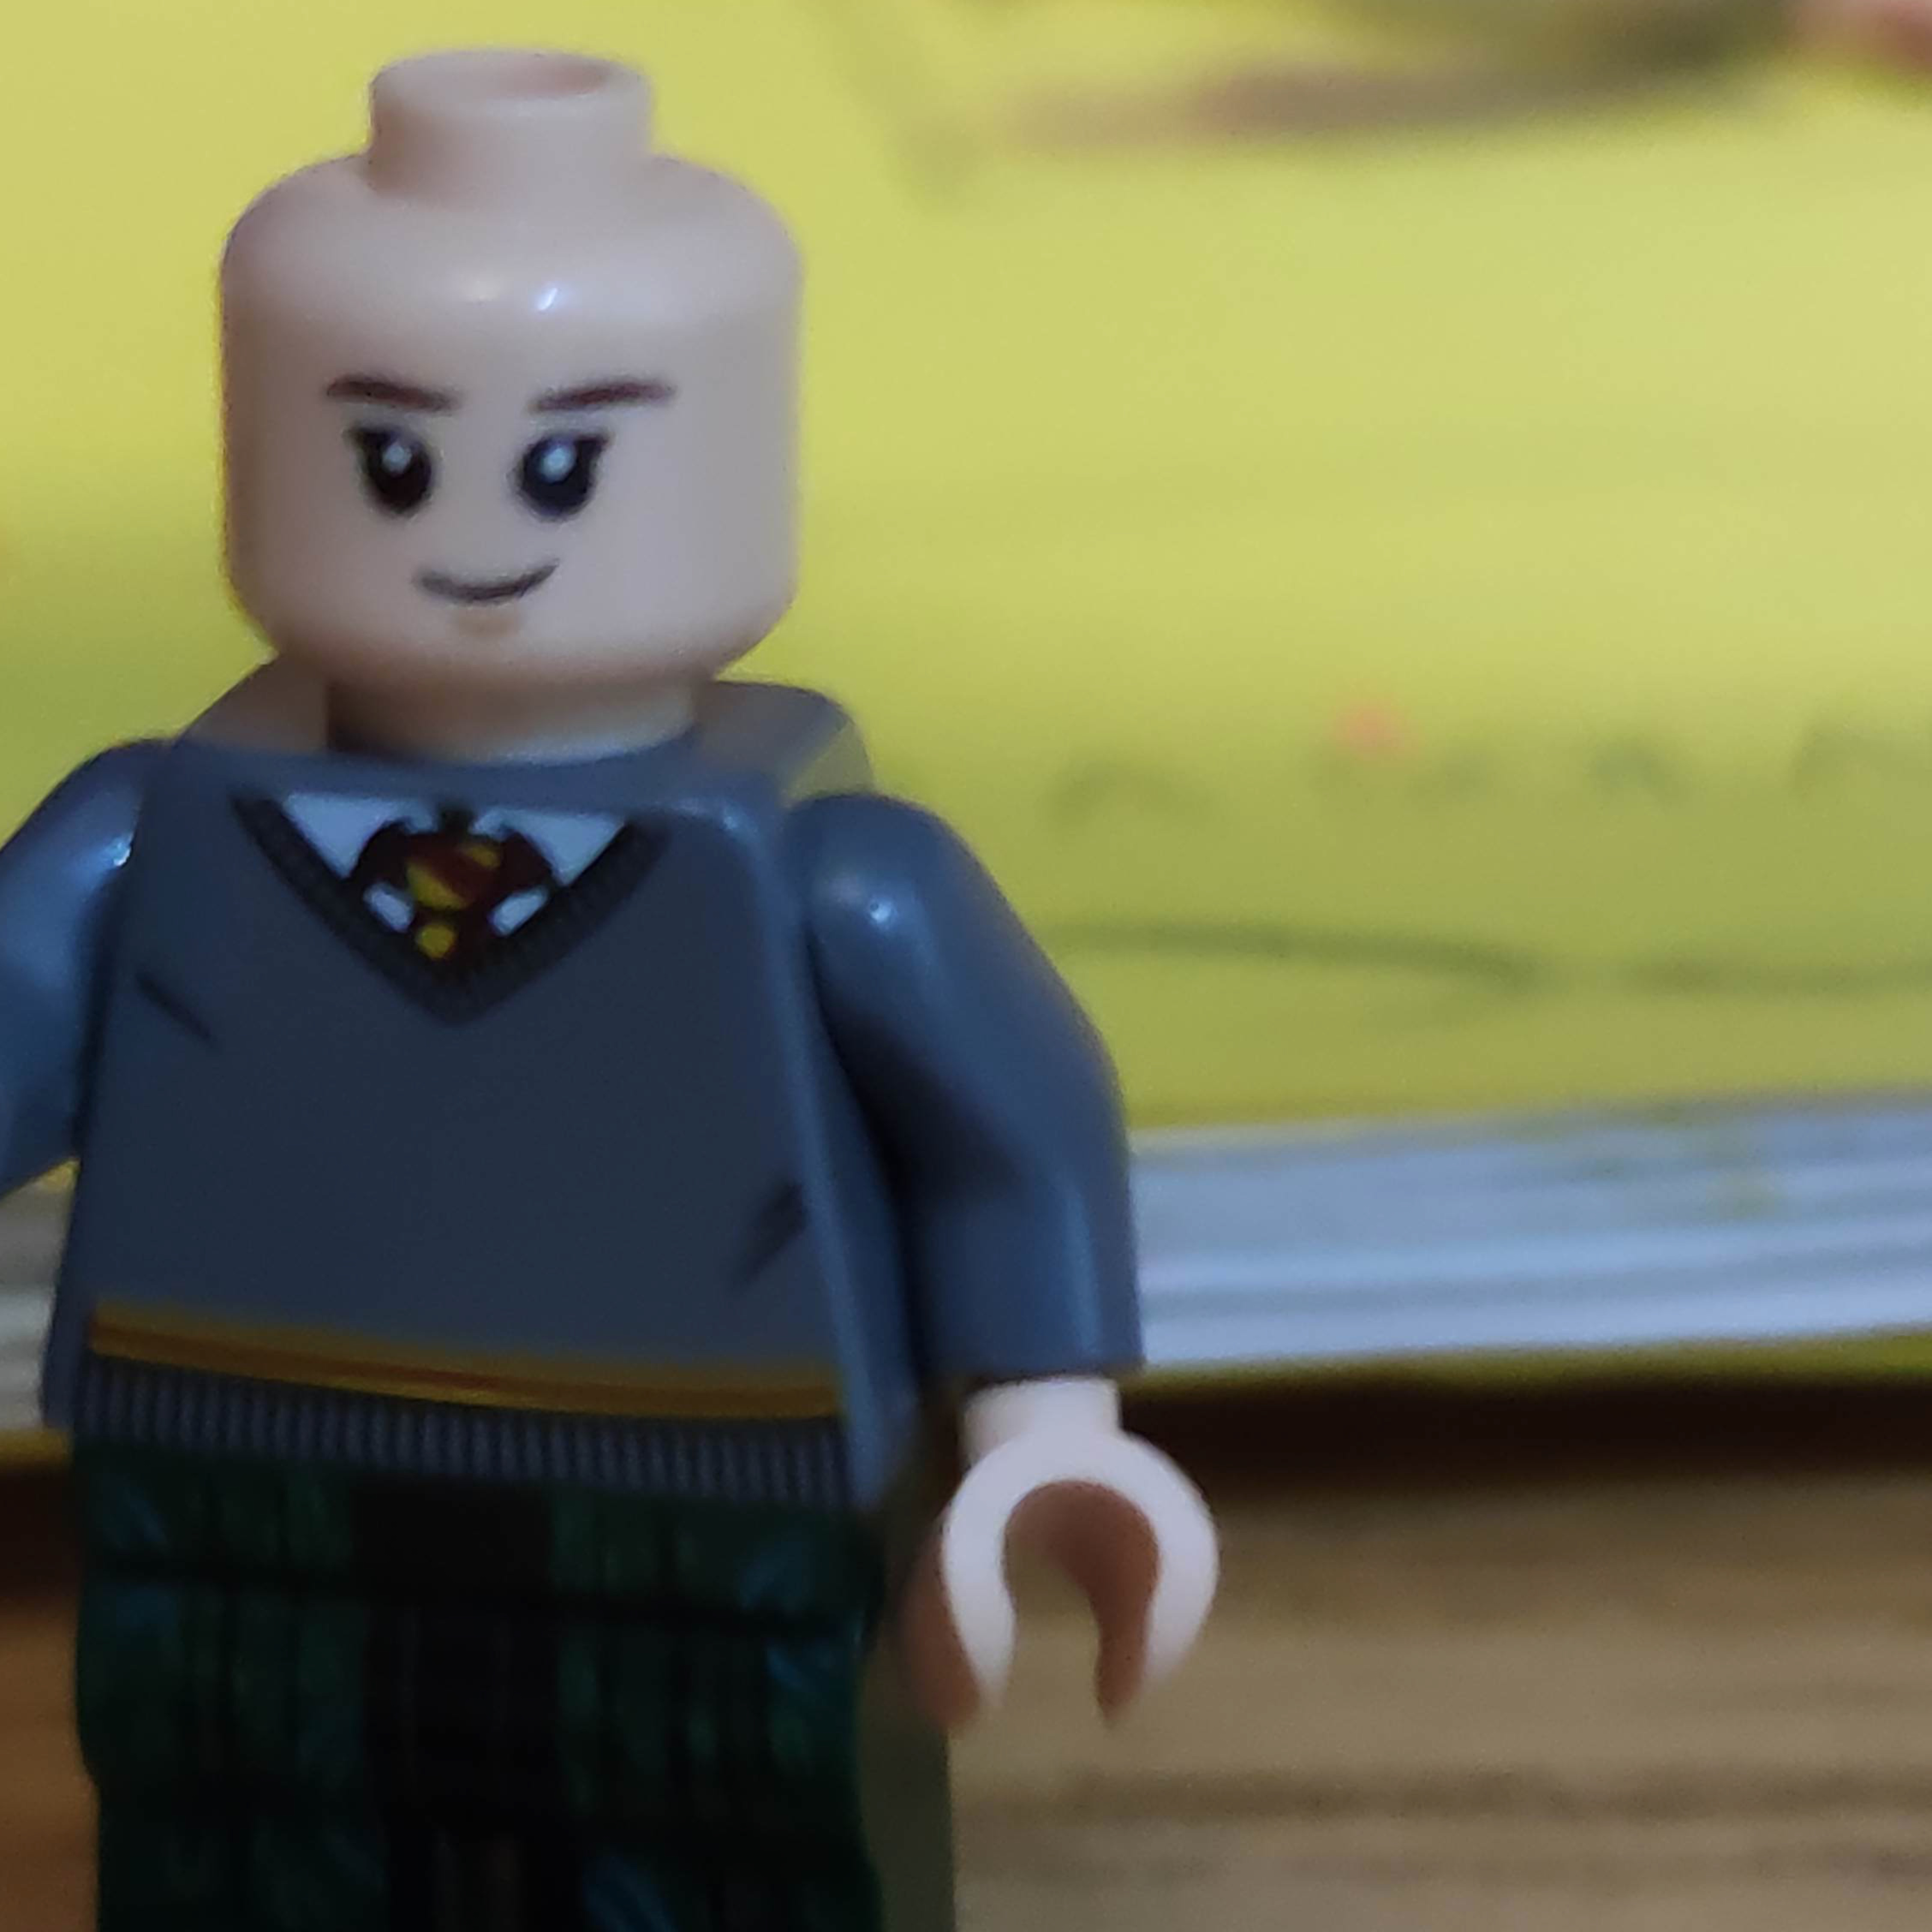lego: (0, 57, 1221, 1932)
